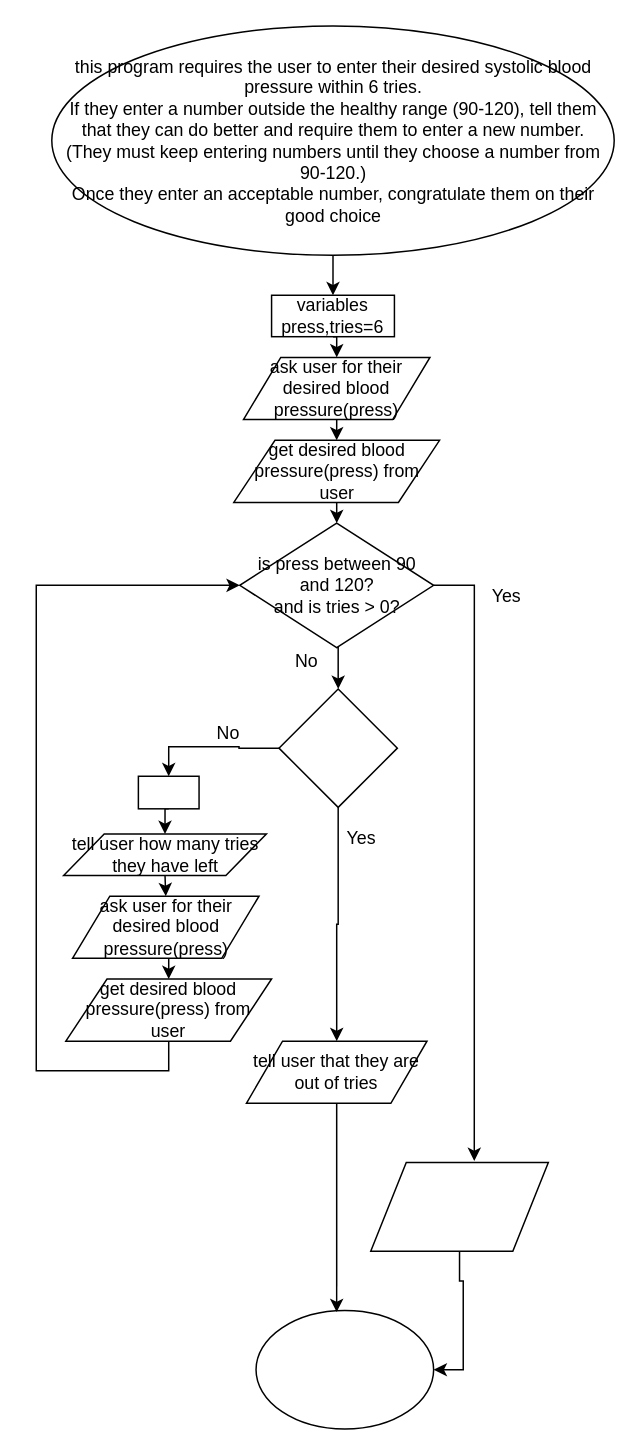
This 641x1455 diagram has some shape labels left out. The shapes that lost their labels are listed below. From the top down, each one's box as (x1, y1, x2, y2) in pixels, then its label:
(278, 687, 397, 807): is tries=0?
(137, 775, 199, 809): --tries
(369, 1161, 548, 1251): Congratulate user
(255, 1309, 434, 1429): END
